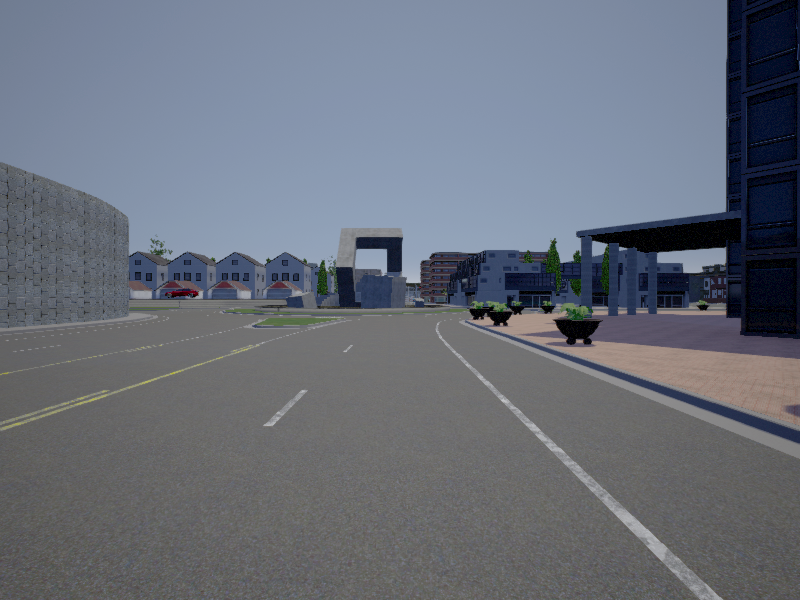Attacker: (166, 288, 200, 297)
